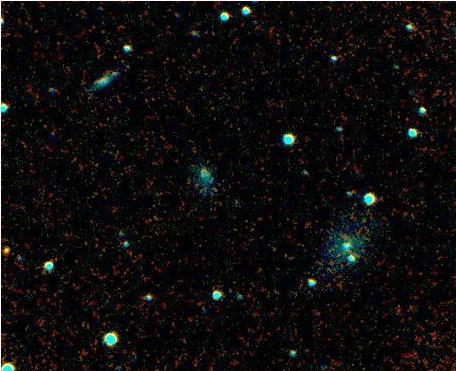star: (0, 234, 23, 264)
